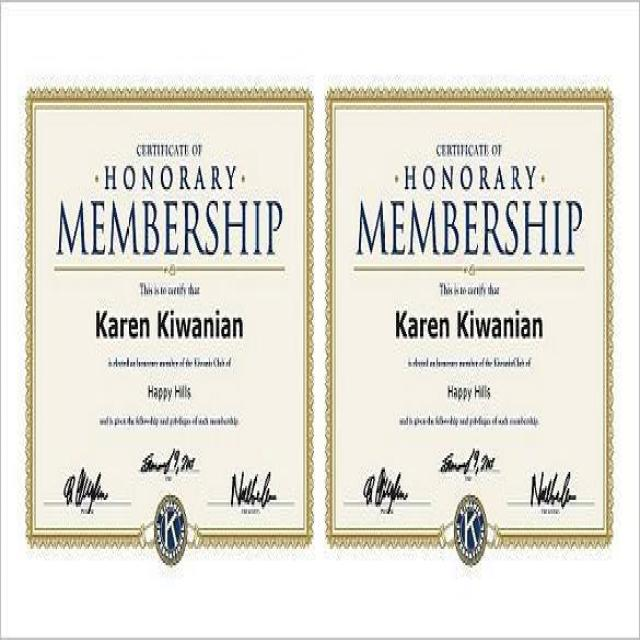signature: (225, 460, 279, 519), (438, 434, 496, 484), (358, 460, 407, 519), (60, 458, 112, 511), (528, 458, 574, 514), (134, 442, 197, 474)
